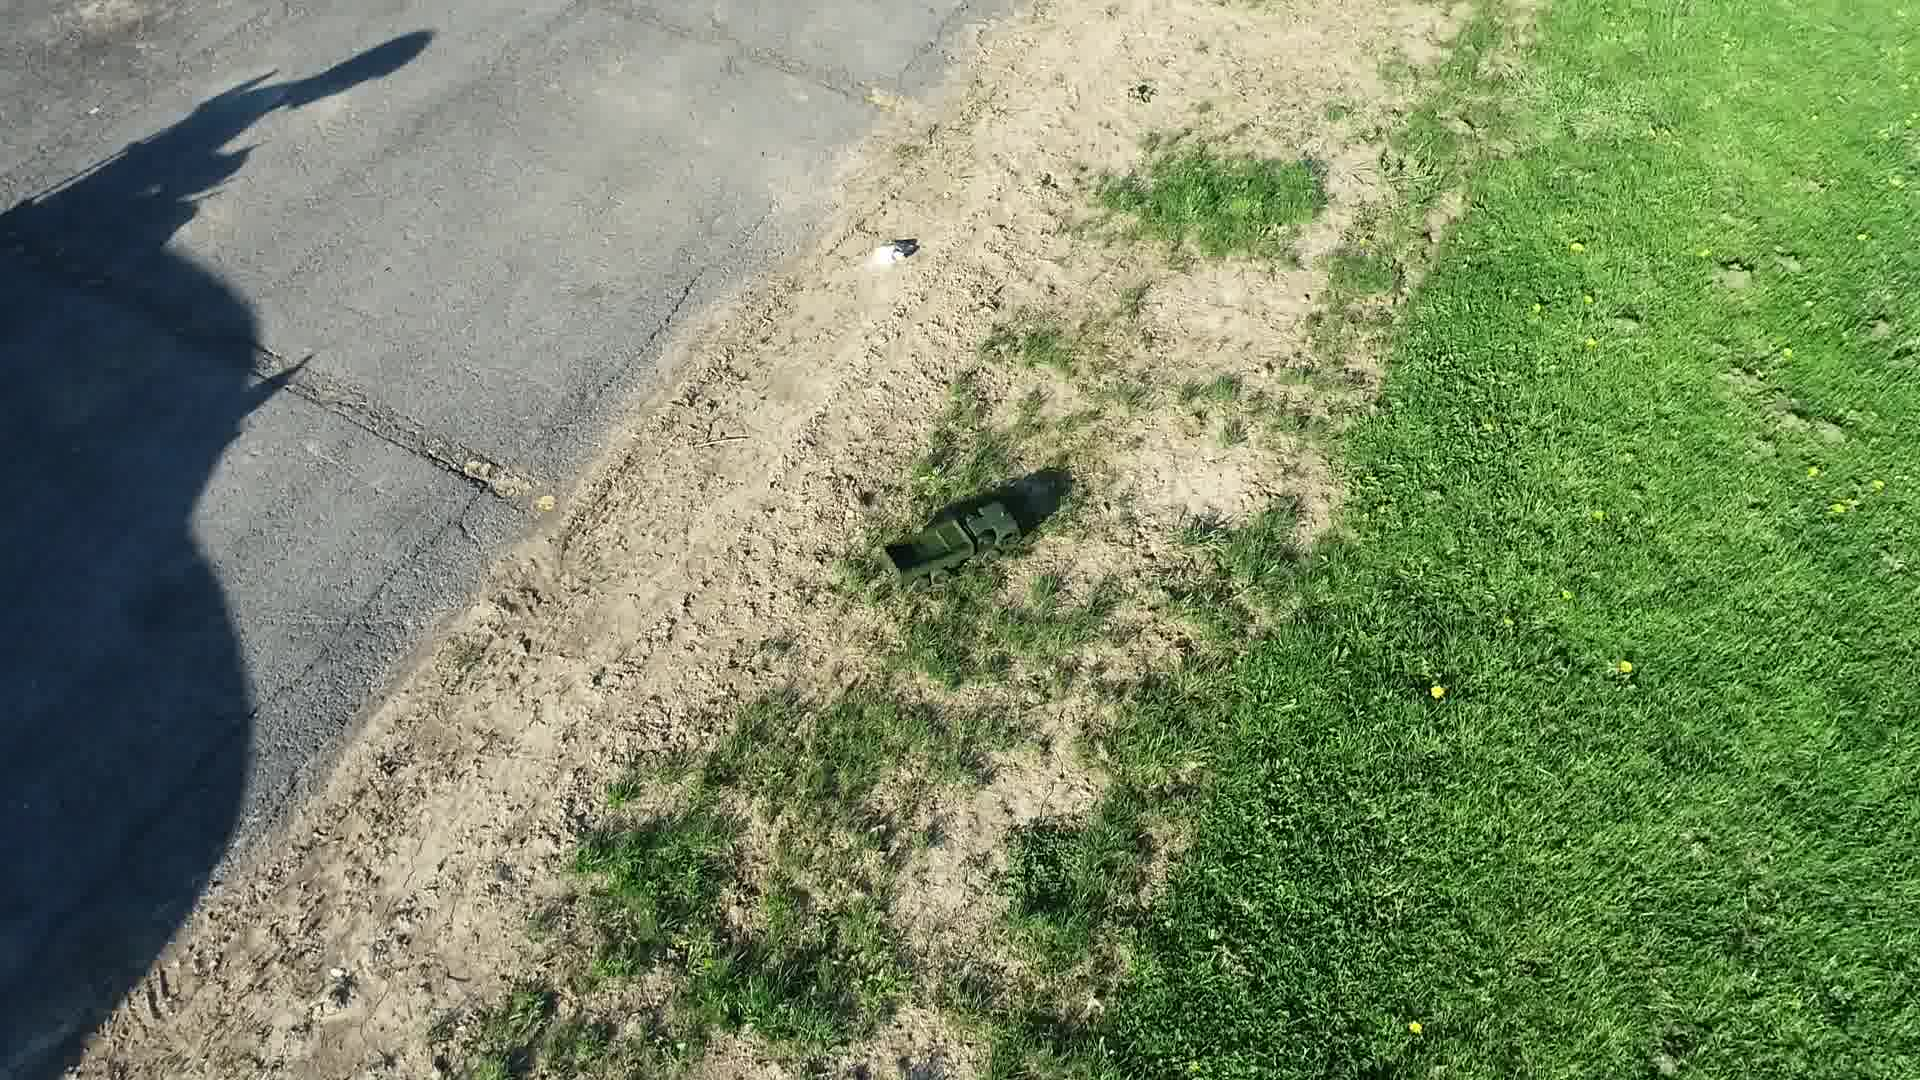transporter9: (876, 485, 1026, 595)
